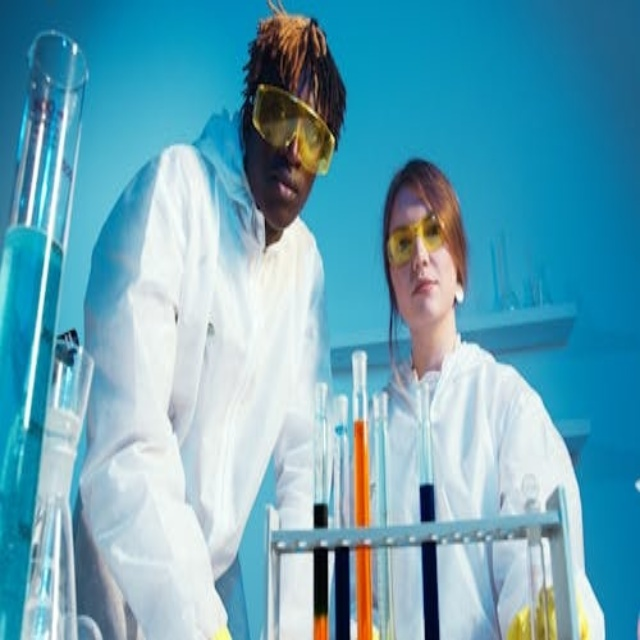Gafas: (252, 83, 336, 175), (387, 210, 450, 268)
Sin_mascara: (265, 159, 303, 214), (404, 273, 448, 310)
